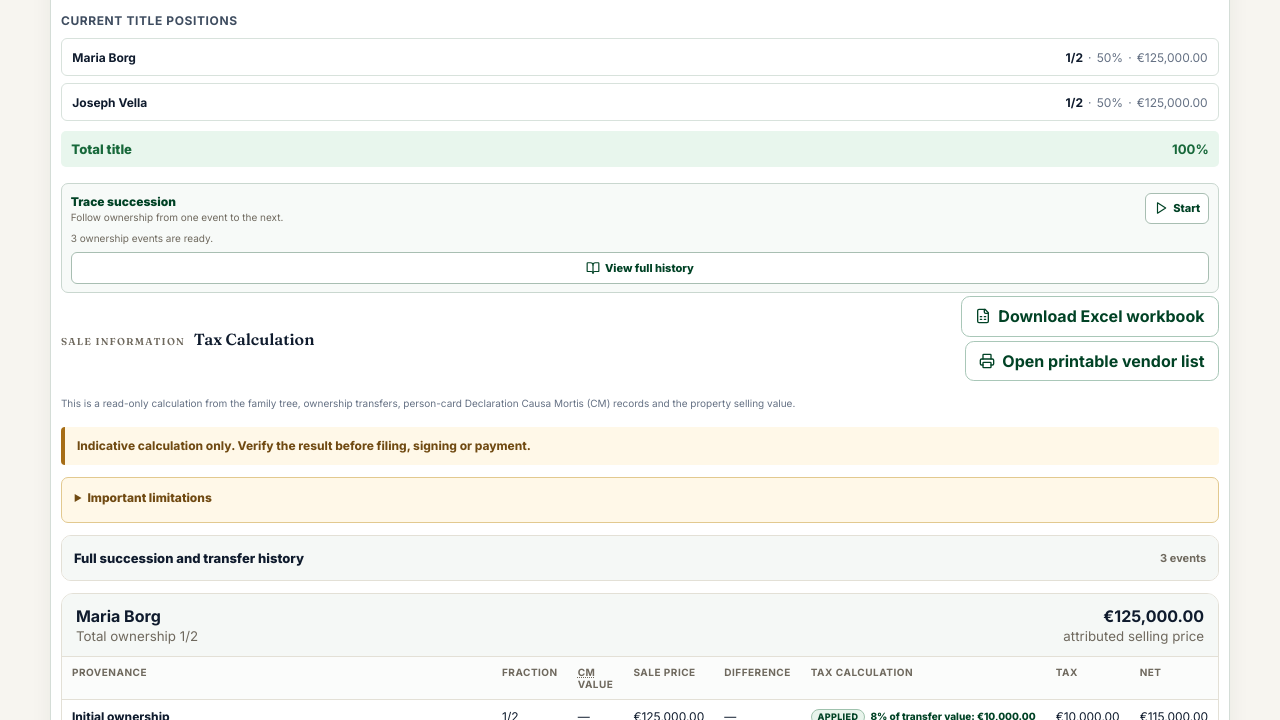
Test: unified Property & Tax workspace › shows safe tax subtotals and opens a printable list for every vendor
(page scrolled)
Click the button "Open printable vendor list": {"x": 1092, "y": 361} [965,340,1219,381]
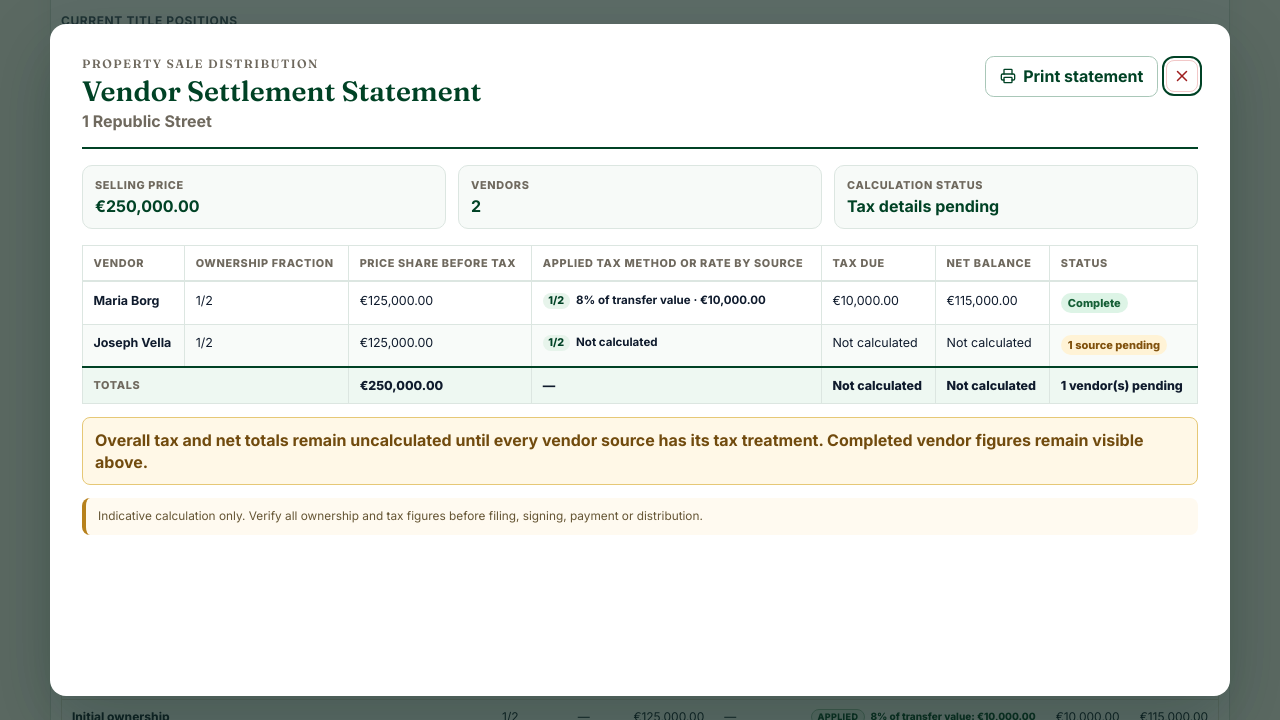
Now the dialog is shown
Now the dialog shows "Maria Borg", box [93,293,160,308]
Now the dialog shows "Joseph Vella", box [93,335,171,350]
